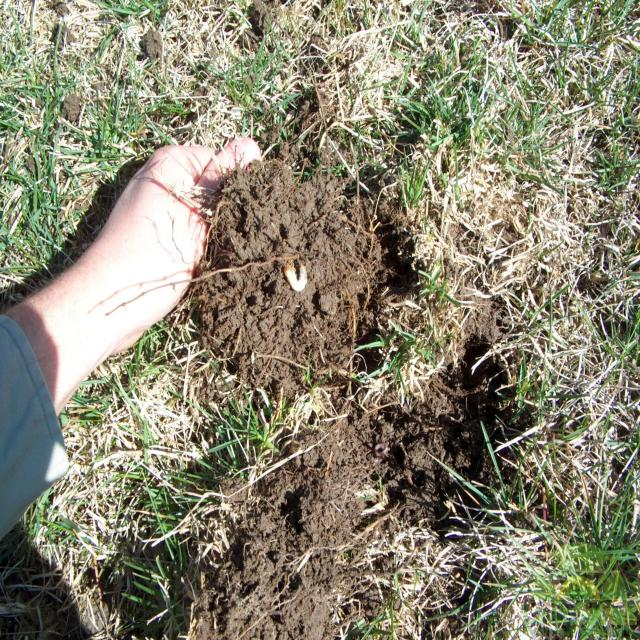Grub-Adult-: (276, 240, 320, 302)
